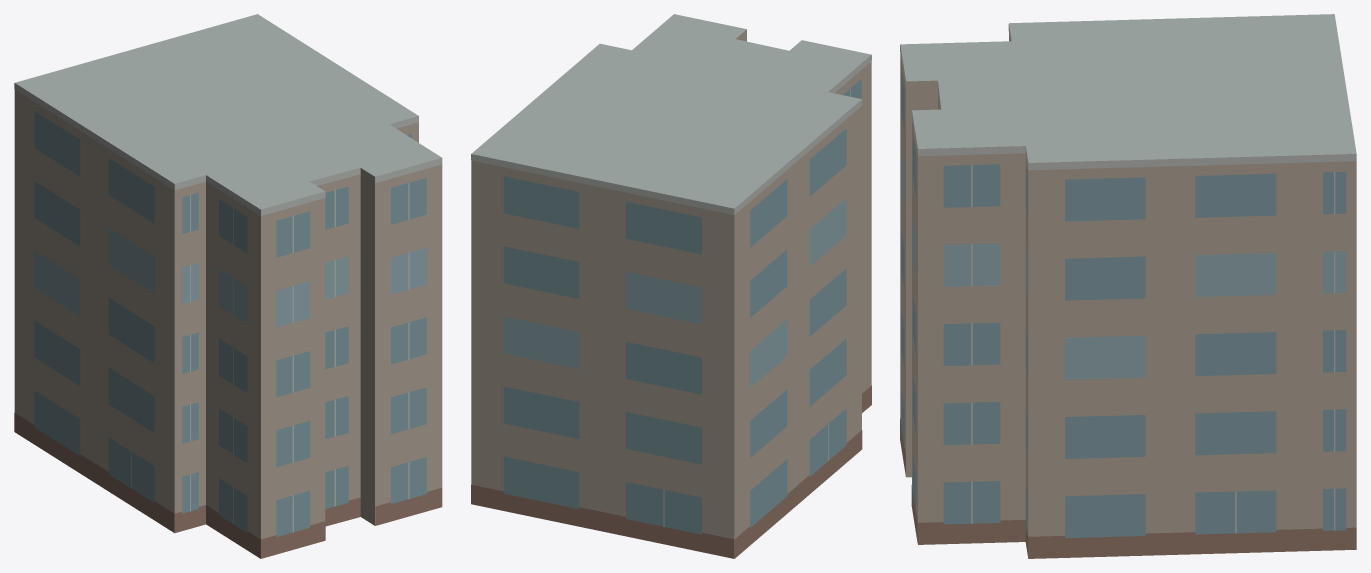
File: survey-upis-33029304.glb
The picture shows the model from 3 angles, left to right: view 1: azimuth 30°, elevation 25°; view 2: azimuth 150°, elevation 25°; view 3: azimuth 270°, elevation 25°; orthographic projection. The views are drawn at different scales.
Visible parts, largest first — view 1: survey-upis-33029304.tmp; view 2: survey-upis-33029304.tmp; view 3: survey-upis-33029304.tmp.
Boxes of the visible parts, x1,y1,x2,y2 form: survey-upis-33029304.tmp: [14, 14, 442, 558]; survey-upis-33029304.tmp: [471, 14, 871, 558]; survey-upis-33029304.tmp: [900, 14, 1356, 558].
Size of the model in its own units: 10.67 by 13.2 by 13.81.
